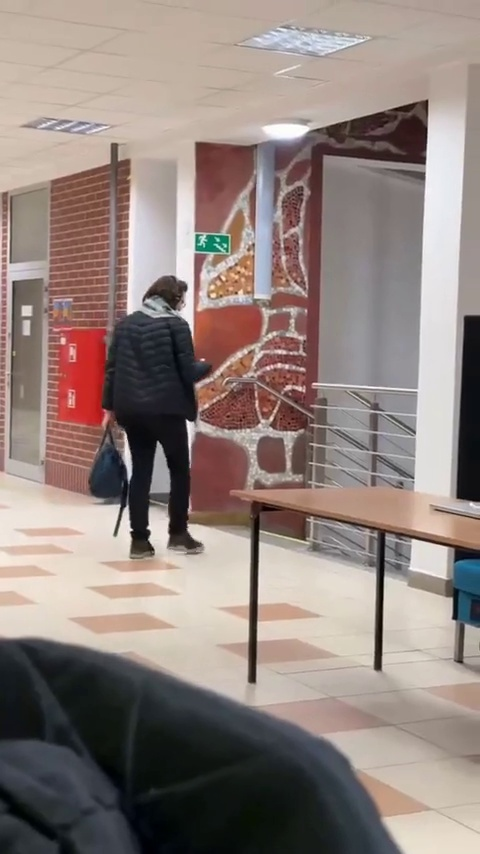no vest: (106, 270, 218, 565)
